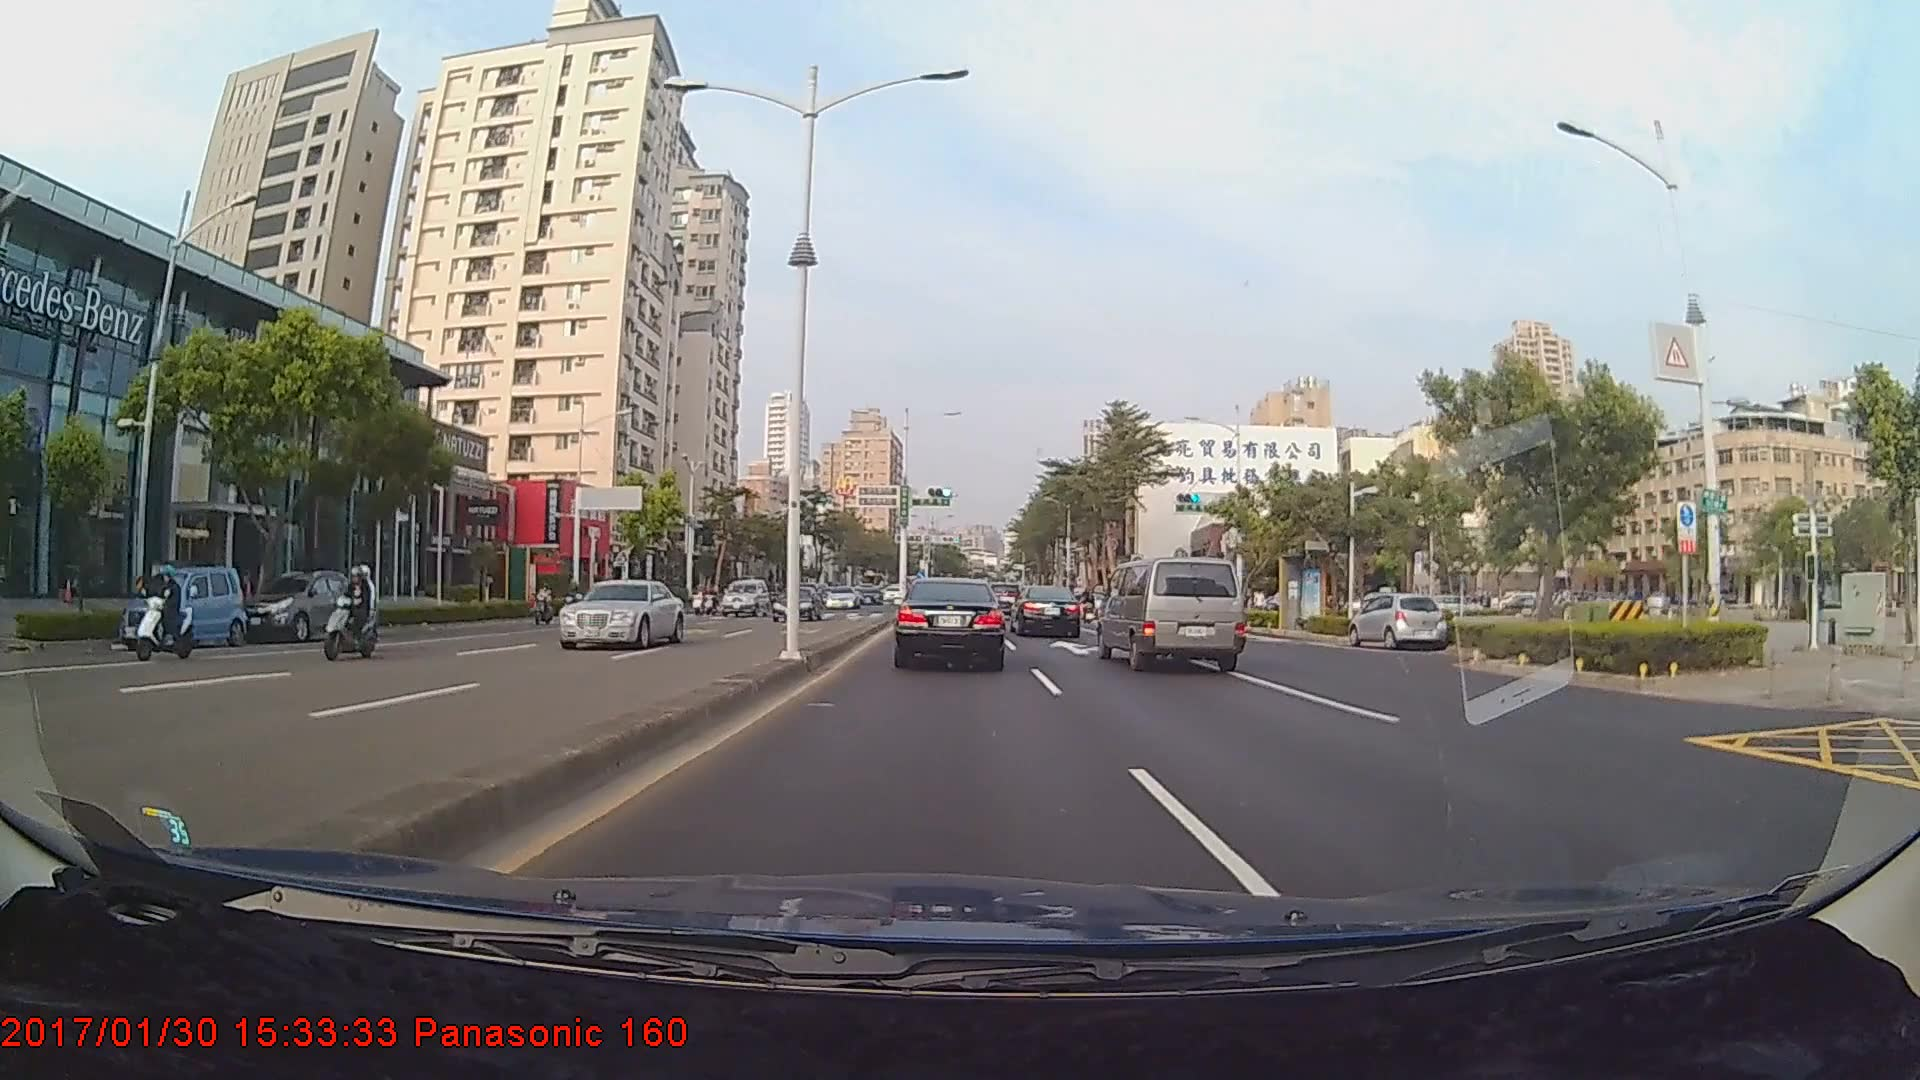rider: (127, 568, 205, 661), (320, 565, 378, 662), (331, 571, 387, 651)
vehicle: (1097, 552, 1246, 672), (119, 564, 247, 651), (896, 577, 1007, 669), (552, 580, 681, 652), (240, 571, 358, 648), (1348, 593, 1447, 651), (1008, 584, 1082, 639), (720, 580, 770, 618), (776, 590, 826, 625), (823, 588, 861, 612)
